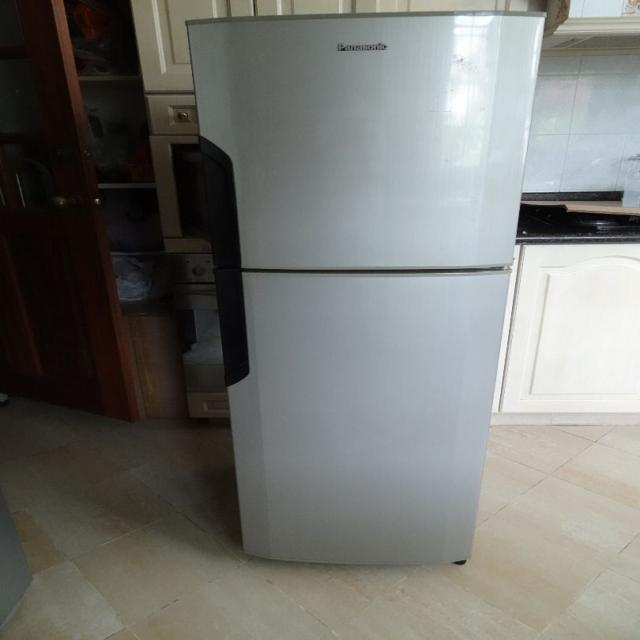refrigerator: (186, 10, 547, 568)
